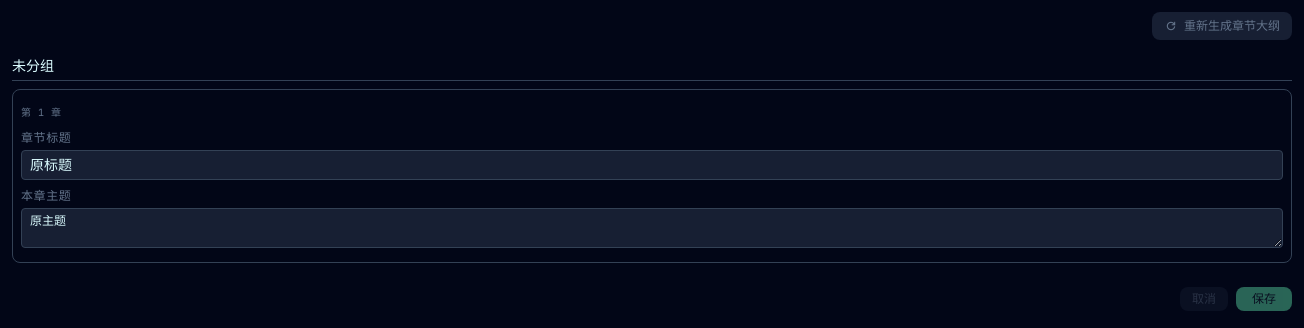
Scenario: ChapterOutlineEditor › '未保存修改' indicator appears after editing
This screenshot has width=1304, height=328.
Replace the text in the field with test id "chapter-1-title" with "新标题" at (652, 165), box [21,150,1283,180]
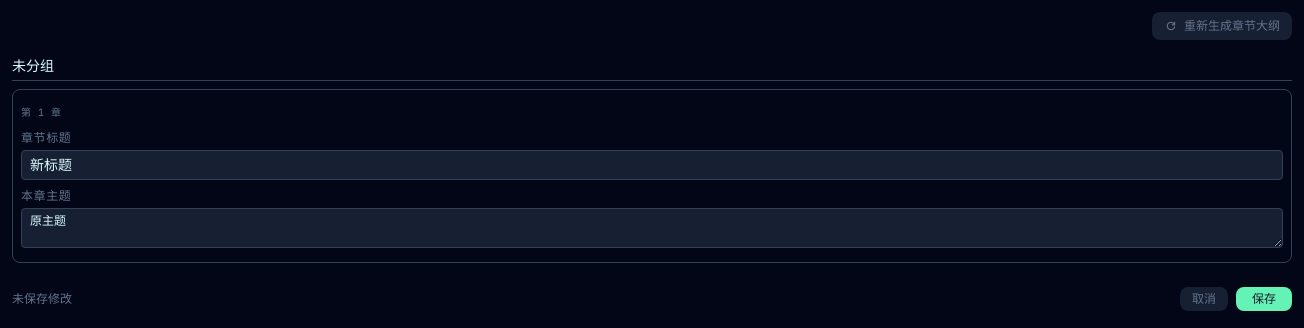
Expected: the text with test id "chapter-outline-editor-dirty" reads "未保存修改", [12,291,72,306]
